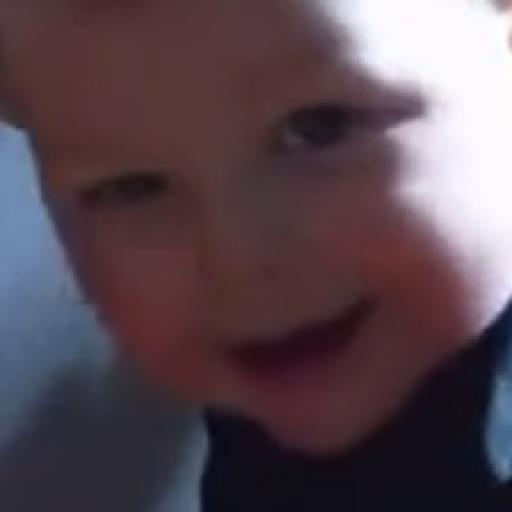Autism: (27, 17, 512, 465)
